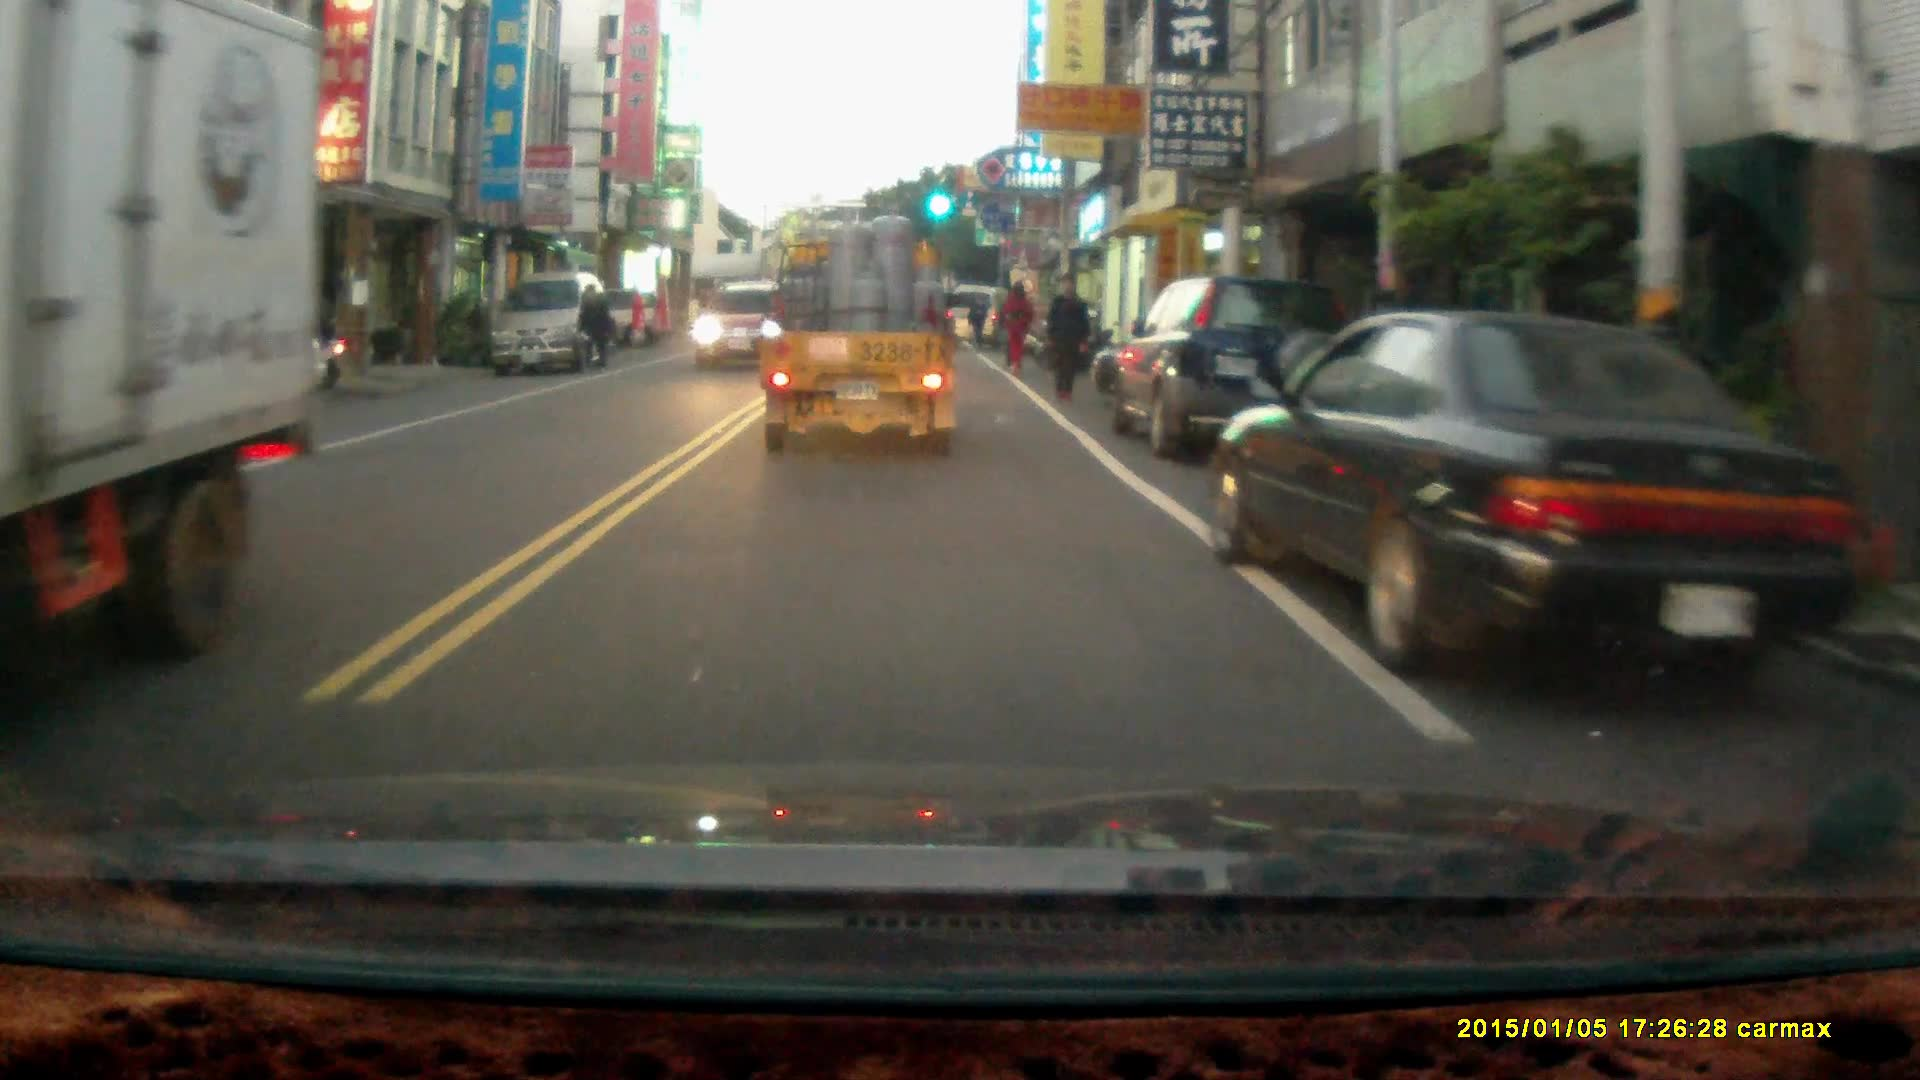pedestrian: (1040, 268, 1091, 401), (996, 277, 1033, 371), (574, 280, 611, 367), (968, 288, 988, 344)
vehicle: (1211, 306, 1828, 682), (1, 7, 317, 670), (756, 195, 963, 462), (1113, 272, 1350, 462), (490, 270, 610, 375), (689, 279, 777, 368)
